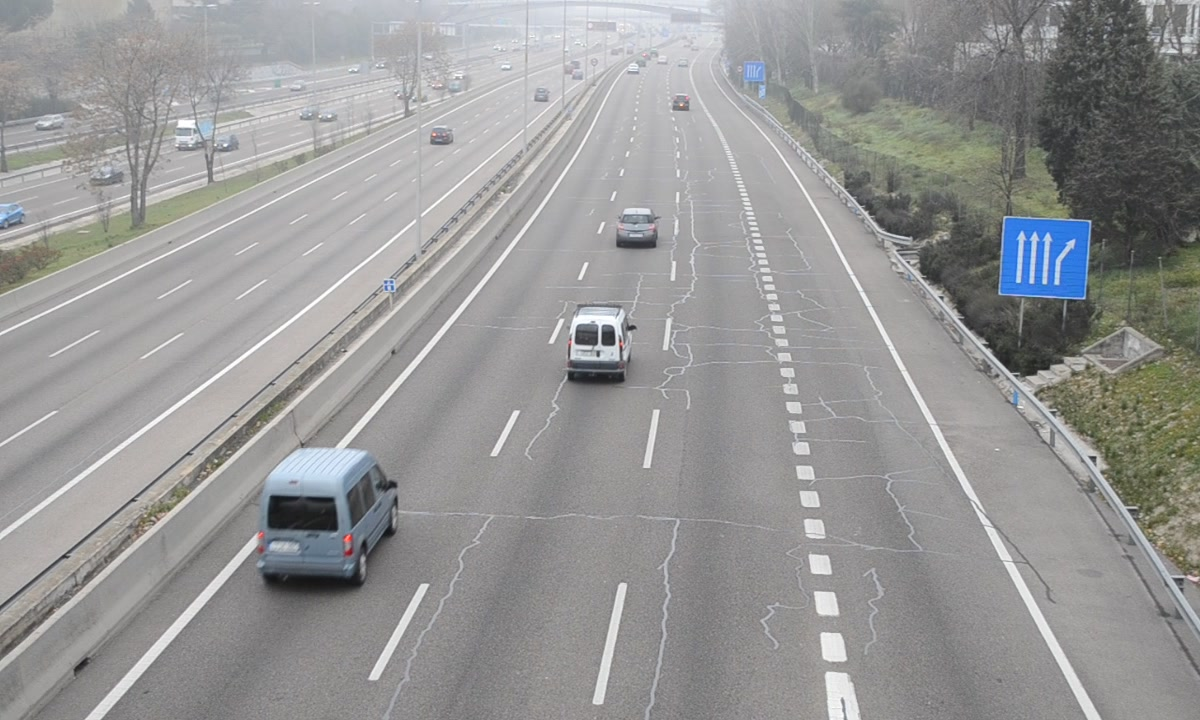car: (615, 207, 657, 248)
van: (259, 450, 397, 579), (567, 305, 632, 379)
